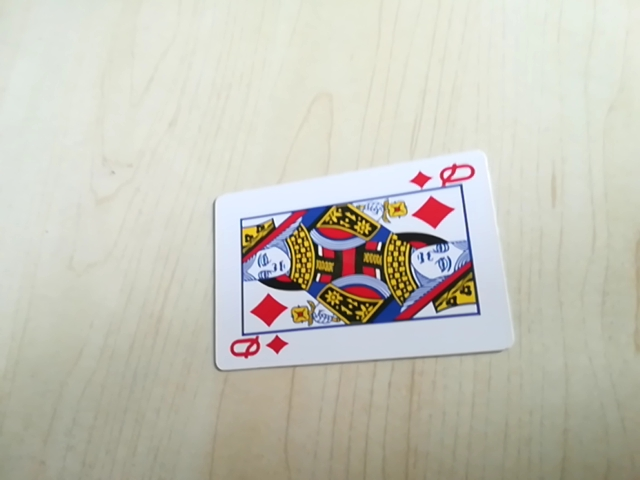fk q: (409, 158, 478, 194), (224, 329, 289, 366)
